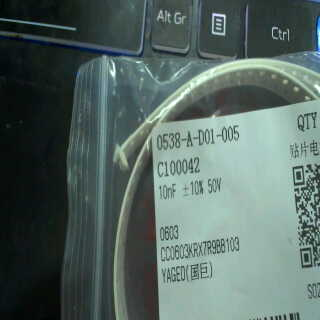10nF: (157, 181, 178, 200)
